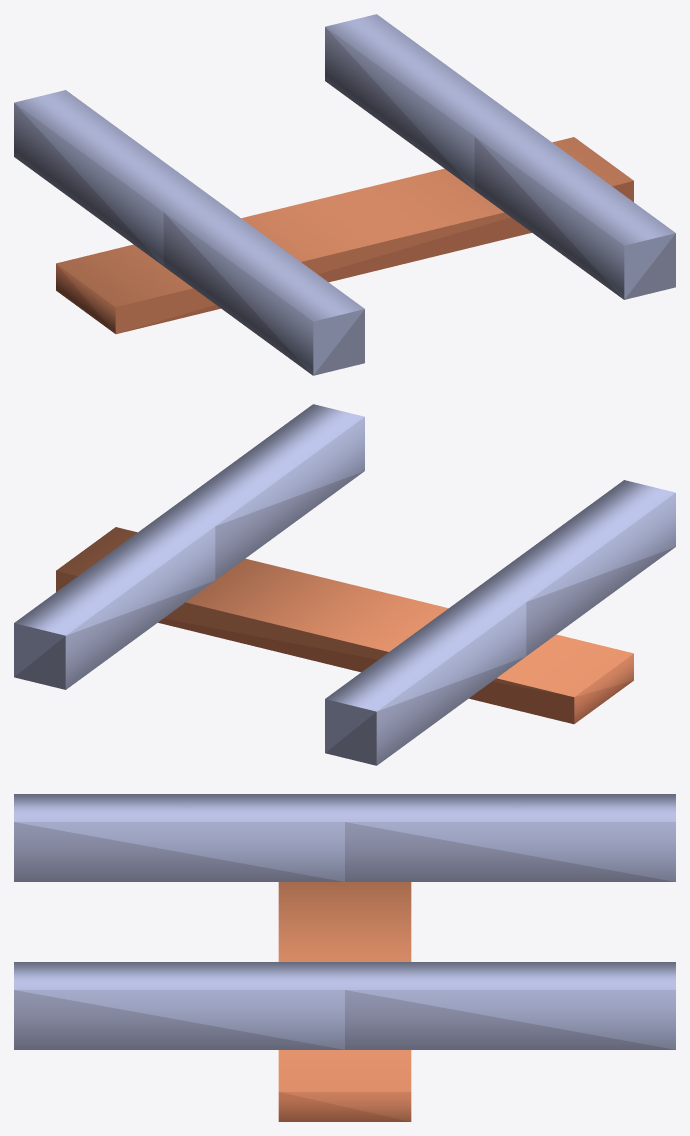
Rendered from track-single.obj.
3 renders of one model, top to bottom at view 1: azimuth 30°, elevation 25°; view 2: azimuth 150°, elevation 25°; view 3: azimuth 270°, elevation 25°, orthographic. The views are drawn at different scales.
Size of the model in its own units: 1 by 0.15 by 1.
